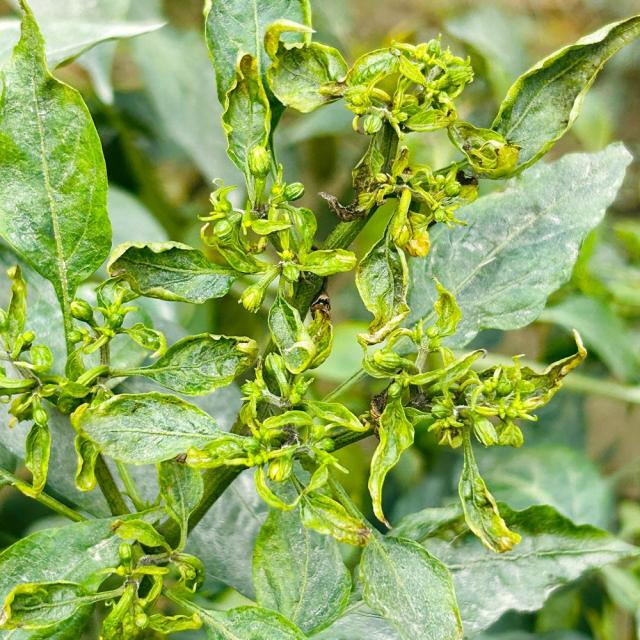Chilli_Leaf_Curl: (1, 1, 636, 638), (409, 139, 634, 350), (0, 0, 113, 368), (451, 13, 638, 180), (78, 389, 245, 466), (105, 238, 242, 304)
